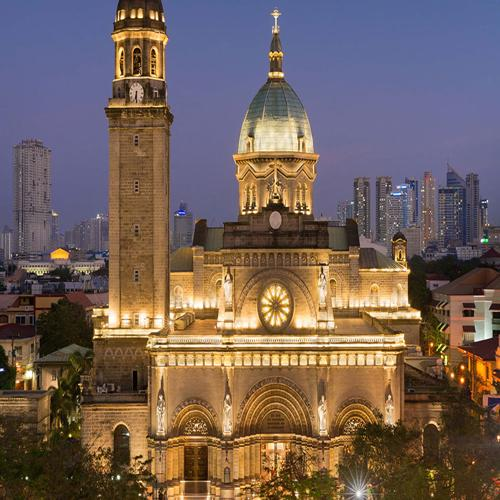Manila Cathedral Church: (57, 3, 428, 494)
